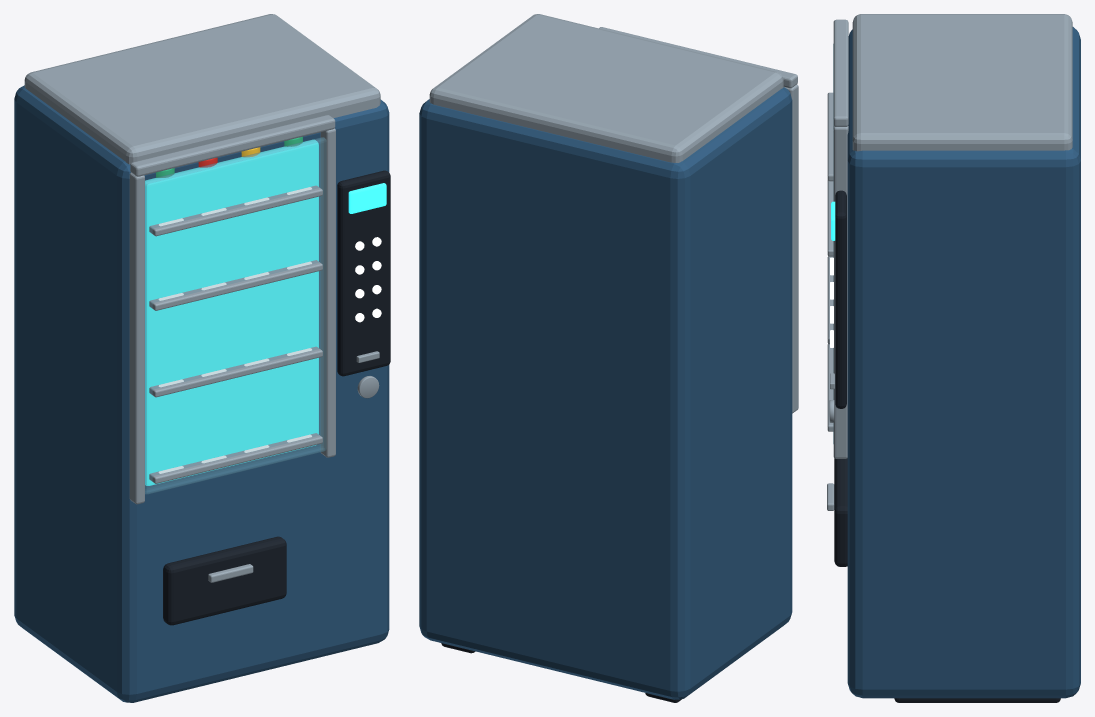
File: vending_machine.glb
The picture shows the model from 3 angles, left to right: view 1: azimuth 30°, elevation 25°; view 2: azimuth 150°, elevation 25°; view 3: azimuth 270°, elevation 25°; orthographic projection.
Parts seen in each view (by area): view 1: Cabinet_Main, ProductBay_Glass, ProductBay_Backlight, Cabinet_TopCap, ControlPanel, DeliveryDoor, ProductBay_LeftTrim, ProductBay_RightTrim, ProductBay_TopTrim, ProductShelf_1, ProductShelf_4, ProductShelf_2 (+2 smaller); view 2: Cabinet_Main, Cabinet_TopCap, ProductBay_LeftTrim, ProductBay_TopTrim; view 3: Cabinet_Main, Cabinet_TopCap, ControlPanel, ProductBay_RightTrim, ProductBay_TopTrim, DeliveryDoor, LevellingFoot_2, ProductShelf_4, ProductShelf_1, ProductShelf_3.
Part boxes in pixels (box(x1,y1,x2,y2)): Cabinet_Main: box(14, 85, 389, 702); ProductBay_Glass: box(145, 137, 326, 494); ProductBay_Backlight: box(145, 139, 318, 485); Cabinet_TopCap: box(24, 14, 380, 164); ControlPanel: box(337, 170, 390, 376); DeliveryDoor: box(163, 536, 286, 625); ProductBay_LeftTrim: box(129, 173, 144, 504); ProductBay_RightTrim: box(320, 128, 335, 457); ProductBay_TopTrim: box(130, 115, 335, 176); ProductShelf_1: box(149, 433, 322, 483); ProductShelf_4: box(149, 185, 322, 236); ProductShelf_2: box(149, 346, 322, 397); Cabinet_Main: box(419, 87, 792, 699); Cabinet_TopCap: box(429, 14, 783, 162); ProductBay_LeftTrim: box(784, 84, 798, 413); ProductBay_TopTrim: box(599, 27, 797, 88); Cabinet_Main: box(847, 27, 1080, 698); Cabinet_TopCap: box(852, 14, 1072, 151); ControlPanel: box(835, 190, 846, 408); ProductBay_RightTrim: box(833, 125, 848, 458); ProductBay_TopTrim: box(833, 19, 848, 126); DeliveryDoor: box(834, 458, 847, 566); LevellingFoot_2: box(894, 698, 1060, 702); ProductShelf_4: box(827, 92, 833, 181); ProductShelf_1: box(827, 344, 833, 431); ProductShelf_3: box(827, 180, 833, 256).
Size of the model in its own units: 0.95 by 1.89 by 0.762.
